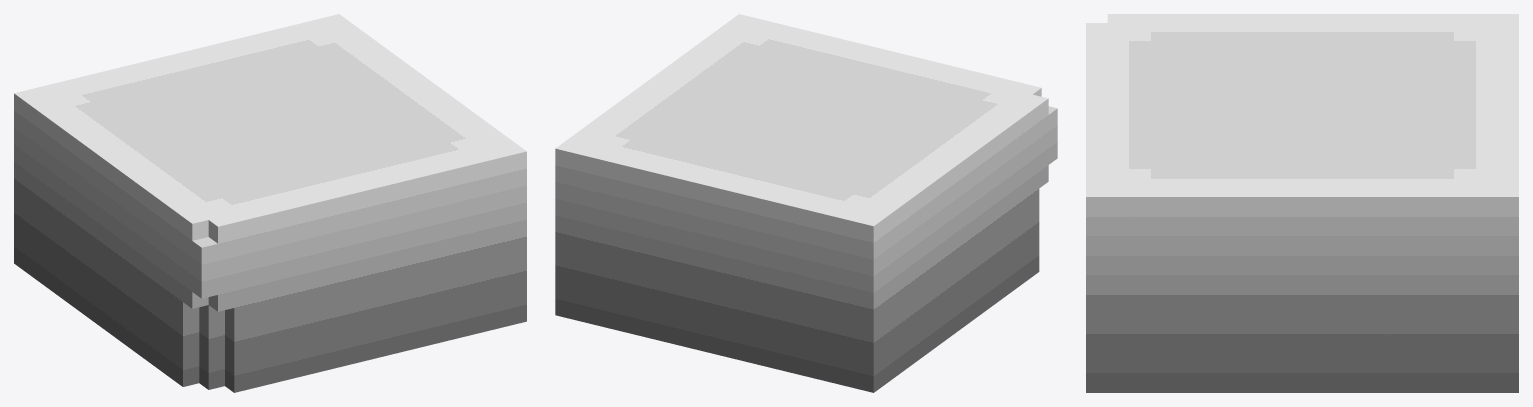
The model's file is half_top_corner.glb.
3 renders of one model, left to right at view 1: azimuth 30°, elevation 25°; view 2: azimuth 150°, elevation 25°; view 3: azimuth 270°, elevation 25°, orthographic. The views are drawn at different scales.
Parts seen in each view (by area): view 1: half_top_corner; view 2: half_top_corner; view 3: half_top_corner.
Part boxes in pixels (x1,y1,x2,y2): half_top_corner: (14,14,526,392); half_top_corner: (555,14,1057,392); half_top_corner: (1086,14,1518,392).
Bounding box in the file's own units: 2 × 1 × 2.
Materials: 1 (1 with a texture image).
